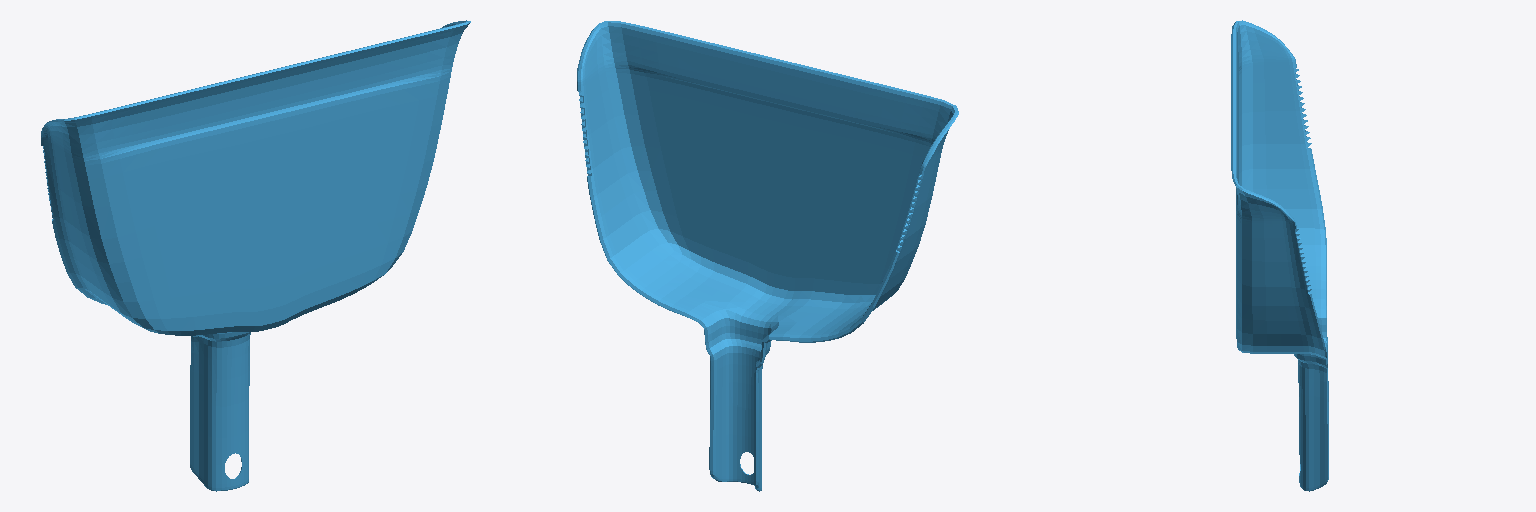
robot.urdf — generated_robot:
<robot name="generated_robot">
    <link name="dustpan_base" />
    <link name="dustpan">
        <visual name="door_frame-6">
            <origin xyz="0 0 0 " />
            <geometry>
                <mesh filename="dustpan.obj" />
            </geometry>
        </visual>
        <collision>
            <origin xyz="0 0 0 " />
            <geometry>
                <mesh filename="dustpan_collision.obj" />
            </geometry>
        </collision>
    </link>    
    <joint name="joint_0" type="fixed">
        <origin xyz="0 0 0" />
        <axis xyz="0 -1 0" />
        <child link="dustpan_base" />
        <parent link="dustpan" />
    </joint>
</robot>

--- Render facts (derived) ---
Views: 3 orthographic renders of the robot side by side, from view 1: azimuth 30°, elevation 25°; view 2: azimuth 150°, elevation 25°; view 3: azimuth 270°, elevation 25°.
Robot: generated_robot — 2 links, 1 joints (1 fixed); root link dustpan; default pose: all joints at 0.
Links seen in each view (by area): view 1: dustpan; view 2: dustpan; view 3: dustpan.
Boxes of the visible links, <box> form: dustpan: <box>41,20,470,491</box>; dustpan: <box>577,21,958,491</box>; dustpan: <box>1231,20,1328,491</box>.
Size in the robot's own frame: 0.2268 by 0.0548 by 0.237 metres.
1 mesh visuals loaded from 1 distinct referenced files (1 OBJ).